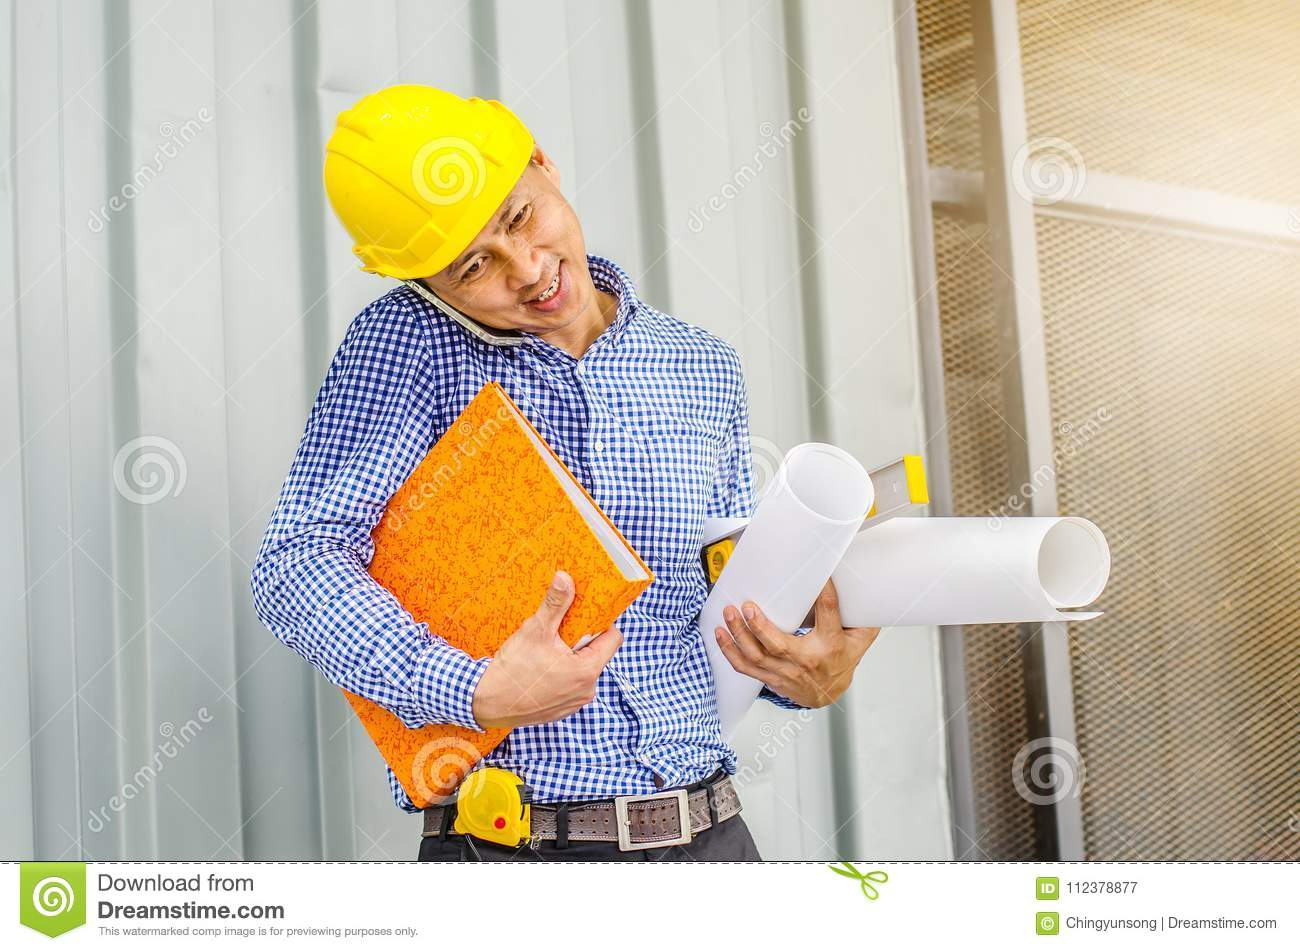phone: (398, 274, 528, 347)
talk: (394, 197, 595, 348)
